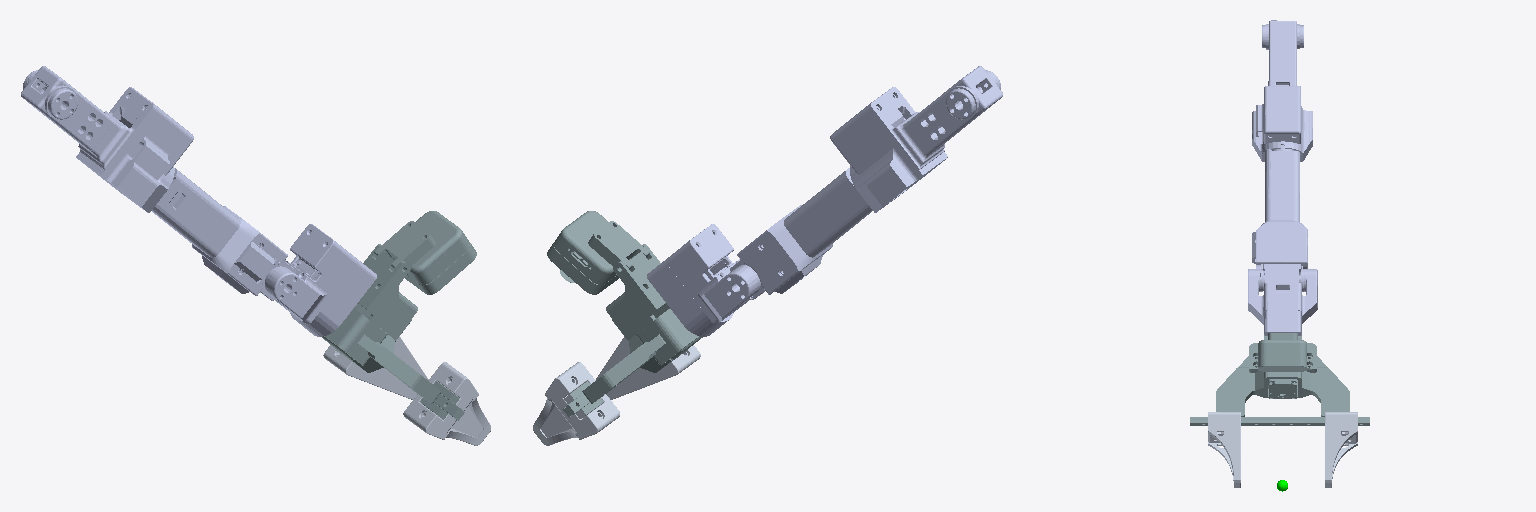
URDF robot description (Alicia_D_v5_6_gripper_100mm):
<?xml version="1.0" encoding="utf-8" ?>
<!-- This URDF was automatically created by SolidWorks to URDF Exporter! Originally created by Stephen Brawner (brawner@gmail.com) 
     Commit Version: 1.6.0-4-g7f85cfe  Build Version: 1.6.7995.38578
     For more information, please see http://wiki.ros.org/sw_urdf_exporter -->
<robot name="Alicia_D_v5_6_gripper_100mm">
    <mujoco>
        <compiler meshdir="../../meshes/Alicia_D_v5_6/gripper_100mm/" discardvisual="false" />
        <contact>
            <exclude body1="base_link" body2="Link1" />
            <exclude body1="Link1" body2="Link2" />
            <exclude body1="Link2" body2="Link3" />
            <exclude body1="Link3" body2="Link4" />
            <exclude body1="Link4" body2="Link5" />
            <exclude body1="Link5" body2="Link6" />
            <exclude body1="Link6" body2="Link7_100mm" />
            <exclude body1="Link7_100mm" body2="Link8_100mm" />
        </contact>
    </mujoco>
    <link name="world" />
    <joint name="world_to_base_joint" type="fixed">
        <parent link="world" />
        <child link="base_link" />
        <origin xyz="0 0 0" rpy="0 0 3.14" />
    </joint>
    <link name="base_link">
        <inertial>
            <origin xyz="0.000826234790037254 0.00797844273246934 0.0457675129432198" rpy="0 0 0" />
            <mass value="0.73396142463988" />
            <inertia ixx="0.00138410344771636" ixy="5.67201110403939E-05" ixz="5.14360164234968E-07" iyy="0.00173617223701436" iyz="-1.48652204589361E-05" izz="0.00274667683203449" />
        </inertial>
        <visual>
            <origin xyz="0 0 0" rpy="0 0 0" />
            <geometry>
                <mesh filename="package://alicia_d_descriptions/meshes/Alicia_D_v5_6/gripper_100mm/base_link.STL" />
            </geometry>
            <material name="">
                <color rgba="0.807843137254902 0.843137254901961 0.905882352941176 1" />
            </material>
        </visual>
        <collision>
            <origin xyz="0 0 0" rpy="0 0 0" />
            <geometry>
                <mesh filename="package://alicia_d_descriptions/meshes/Alicia_D_v5_6/gripper_100mm/base_link.STL" />
            </geometry>
        </collision>
    </link>
    <link name="Link1">
        <inertial>
            <origin xyz="-0.000230595969793356 -1.29044880285874E-05 0.00303135656120136" rpy="0 0 0" />
            <mass value="0.195233452997315" />
            <inertia ixx="0.000258351125070494" ixy="8.79363230470527E-07" ixz="-6.87511809706097E-07" iyy="0.000149307709386745" iyz="-1.07703111237383E-06" izz="0.00033979127403906" />
        </inertial>
        <visual>
            <origin xyz="0 0 0" rpy="0 0 0" />
            <geometry>
                <mesh filename="package://alicia_d_descriptions/meshes/Alicia_D_v5_6/gripper_100mm/Link1.STL" />
            </geometry>
            <material name="">
                <color rgba="0.796078431372549 0.823529411764706 0.937254901960784 1" />
            </material>
        </visual>
        <collision>
            <origin xyz="0 0 0" rpy="0 0 0" />
            <geometry>
                <mesh filename="package://alicia_d_descriptions/meshes/Alicia_D_v5_6/gripper_100mm/Link1.STL" />
            </geometry>
        </collision>
    </link>
    <joint name="Joint1" type="revolute">
        <origin xyz="0 0 0.1295" rpy="0 0 0" />
        <parent link="base_link" />
        <child link="Link1" />
        <axis xyz="0 0 1" />
        <limit lower="-2.16" upper="2.16" effort="5" velocity="12" />
    </joint>
    <link name="Link2">
        <inertial>
            <origin xyz="0.15058869562262 0.000942409990636479 0.000567598737006011" rpy="0 0 0" />
            <mass value="0.207033693061785" />
            <inertia ixx="0.000128135500181764" ixy="1.19125955596776E-07" ixz="1.66696805664369E-06" iyy="0.00020570839060521" iyz="-3.50025103451333E-07" izz="0.000122721347332605" />
        </inertial>
        <visual>
            <origin xyz="0 0 0" rpy="0 0 0" />
            <geometry>
                <mesh filename="package://alicia_d_descriptions/meshes/Alicia_D_v5_6/gripper_100mm/Link2.STL" />
            </geometry>
            <material name="">
                <color rgba="0.807843137254902 0.843137254901961 0.905882352941176 1" />
            </material>
        </visual>
        <collision>
            <origin xyz="0 0 0" rpy="0 0 0" />
            <geometry>
                <mesh filename="package://alicia_d_descriptions/meshes/Alicia_D_v5_6/gripper_100mm/Link2.STL" />
            </geometry>
        </collision>
    </link>
    <joint name="Joint2" type="revolute">
        <origin xyz="0 0 0.0428699999999999" rpy="1.5707963267949 -1.5707963267949 0" />
        <parent link="Link1" />
        <child link="Link2" />
        <axis xyz="0 0 -1" />
        <limit lower="-1.57" upper="1.57" effort="5" velocity="12" />
    </joint>
    <link name="Link3">
        <inertial>
            <origin xyz="-0.00248143778782739 -0.0557863224791789 -0.00026972095893869" rpy="0 0 0" />
            <mass value="0.0845575643881719" />
            <inertia ixx="7.61918231204225E-05" ixy="-2.26498109370293E-06" ixz="-3.82299433438528E-07" iyy="2.87941476377691E-05" iyz="-5.38445154034657E-06" izz="8.04370526946759E-05" />
        </inertial>
        <visual>
            <origin xyz="0 0 0" rpy="0 0 0" />
            <geometry>
                <mesh filename="package://alicia_d_descriptions/meshes/Alicia_D_v5_6/gripper_100mm/Link3.STL" />
            </geometry>
            <material name="">
                <color rgba="0.792156862745098 0.819607843137255 0.933333333333333 1" />
            </material>
        </visual>
        <collision>
            <origin xyz="0 0 0" rpy="0 0 0" />
            <geometry>
                <mesh filename="package://alicia_d_descriptions/meshes/Alicia_D_v5_6/gripper_100mm/Link3.STL" />
            </geometry>
        </collision>
    </link>
    <joint name="Joint3" type="revolute">
        <origin xyz="0.223671302741224 0.0225916129580062 -5.00000000004269E-05" rpy="0 0 -2.35619455367747" />
        <parent link="Link2" />
        <child link="Link3" />
        <axis xyz="0 0 -1" />
        <limit lower="-0.5" upper="2.35619" effort="5" velocity="12" />
    </joint>
    <link name="Link4">
        <inertial>
            <origin xyz="-0.000298365511909815 -0.000601369792335375 -0.0659740414803652" rpy="0 0 0" />
            <mass value="0.0653695983290511" />
            <inertia ixx="7.03004189237379E-05" ixy="9.68417897045909E-09" ixz="-7.50131701712901E-07" iyy="6.87470299000528E-05" iyz="-4.45271864002507E-08" izz="1.68226189332686E-05" />
        </inertial>
        <visual>
            <origin xyz="0 0 0" rpy="0 0 0" />
            <geometry>
                <mesh filename="package://alicia_d_descriptions/meshes/Alicia_D_v5_6/gripper_100mm/Link4.STL" />
            </geometry>
            <material name="">
                <color rgba="0.792156862745098 0.819607843137255 0.933333333333333 1" />
            </material>
        </visual>
        <collision>
            <origin xyz="0 0 0" rpy="0 0 0" />
            <geometry>
                <mesh filename="package://alicia_d_descriptions/meshes/Alicia_D_v5_6/gripper_100mm/Link4.STL" />
            </geometry>
        </collision>
    </link>
    <joint name="Joint4" type="revolute">
        <origin xyz="0.00211000000000205 -0.0990000000000029 -0.000199999999999935" rpy="1.5707963267949 0 -3.14159265358979" />
        <parent link="Link3" />
        <child link="Link4" />
        <axis xyz="0 0 1" />
        <limit lower="-2.7925" upper="2.7925" effort="5" velocity="12" />
    </joint>
    <link name="Link5">
        <inertial>
            <origin xyz="-0.0113684233797897 -0.0308687469846993 0.000870449933407672" rpy="0 0 0" />
            <mass value="0.0507639016939435" />
            <inertia ixx="1.87701017076292E-05" ixy="-2.01098609907295E-06" ixz="5.15226500398009E-08" iyy="2.5102103446601E-05" iyz="-4.22412451729529E-08" izz="1.72571710040514E-05" />
        </inertial>
        <visual>
            <origin xyz="0 0 0" rpy="0 0 0" />
            <geometry>
                <mesh filename="package://alicia_d_descriptions/meshes/Alicia_D_v5_6/gripper_100mm/Link5.STL" />
            </geometry>
            <material name="">
                <color rgba="0.792156862745098 0.819607843137255 0.933333333333333 1" />
            </material>
        </visual>
        <collision>
            <origin xyz="0 0 0" rpy="0 0 0" />
            <geometry>
                <mesh filename="package://alicia_d_descriptions/meshes/Alicia_D_v5_6/gripper_100mm/Link5.STL" />
            </geometry>
        </collision>
    </link>
    <joint name="Joint5" type="revolute">
        <origin xyz="0 -0.000500000000000358 -0.12235" rpy="1.5707963267949 0 3.14159265358979" />
        <parent link="Link4" />
        <child link="Link5" />
        <axis xyz="0 0 -1" />
        <limit lower="-1.57" upper="1.57" effort="5" velocity="12" />
    </joint>
    <link name="Link6">
        <inertial>
            <origin xyz="-0.0284286209063364 -0.000164331776074683 0.0356458378036799" rpy="0 0 0" />
            <mass value="0.123298967748658" />
            <inertia ixx="8.15187871372542E-05" ixy="1.00502626885595E-08" ixz="-3.58286144151255E-06" iyy="3.34532452274713E-05" iyz="2.08982135984139E-08" izz="8.71601554199557E-05" />
        </inertial>
        <visual>
            <origin xyz="0 0 0" rpy="0 0 0" />
            <geometry>
                <mesh filename="package://alicia_d_descriptions/meshes/Alicia_D_v5_6/gripper_100mm/Link6.STL" />
            </geometry>
            <material name="">
                <color rgba="0.592156862745098 0.666666666666667 0.682352941176471 1" />
            </material>
        </visual>
        <collision>
            <origin xyz="0 0 0" rpy="0 0 0" />
            <geometry>
                <mesh filename="package://alicia_d_descriptions/meshes/Alicia_D_v5_6/gripper_100mm/Link6.STL" />
            </geometry>
        </collision>
    </link>
    <joint name="Joint6" type="revolute">
        <origin xyz="-0.00384999999999946 -0.0574999999999999 0.00100000000000069" rpy="1.5707963267949 0 0" />
        <parent link="Link5" />
        <child link="Link6" />
        <axis xyz="0 0 -1" />
        <limit lower="-3.14" upper="3.14" effort="5" velocity="12" />
    </joint>
    <link name="Link7">
        <inertial>
            <origin xyz="-2.97087516809569E-08 -0.0434087591943532 0.0106596716155974" rpy="0 0 0" />
            <mass value="0.0256461121677846" />
            <inertia ixx="6.46830326573709E-06" ixy="2.39543801056837E-11" ixz="4.6372130544053E-12" iyy="5.13428741941763E-06" iyz="1.26432048814164E-06" izz="8.03606347912524E-06" />
        </inertial>
        <visual>
            <origin xyz="0 0 0" rpy="0 0 0" />
            <geometry>
                <mesh filename="package://alicia_d_descriptions/meshes/Alicia_D_v5_6/gripper_100mm/Link7.STL" />
            </geometry>
            <material name="">
                <color rgba="0.807843137254902 0.843137254901961 0.905882352941176 1" />
            </material>
        </visual>
        <collision>
            <origin xyz="0 0 0" rpy="0 0 0" />
            <geometry>
                <mesh filename="package://alicia_d_descriptions/meshes/Alicia_D_v5_6/gripper_100mm/Link7.STL" />
            </geometry>
        </collision>
    </link>
    <joint name="left_finger" type="prismatic">
        <origin xyz="-0.0002 -0.036537 0.13098" rpy="1.5708 0 0" />
        <parent link="Link6" />
        <child link="Link7" />
        <axis xyz="0 0 1" />
        <limit lower="-0.05" upper="0" effort="5" velocity="12" />
        <mimic joint="right_finger" multiplier="-1" offset="0" />
    </joint>
    <link name="Link8">
        <inertial>
            <origin xyz="2.9708752458113E-08 0.0434087591943507 0.0106596716155974" rpy="0 0 0" />
            <mass value="0.0256461121677875" />
            <inertia ixx="6.46830326573823E-06" ixy="2.39543798195983E-11" ixz="-4.63721285127558E-12" iyy="5.13428741941822E-06" iyz="-1.2643204881421E-06" izz="8.03606347912604E-06" />
        </inertial>
        <visual>
            <origin xyz="0 0 0" rpy="0 0 0" />
            <geometry>
                <mesh filename="package://alicia_d_descriptions/meshes/Alicia_D_v5_6/gripper_100mm/Link8.STL" />
            </geometry>
            <material name="">
                <color rgba="0.807843137254902 0.843137254901961 0.905882352941176 1" />
            </material>
        </visual>
        <collision>
            <origin xyz="0 0 0" rpy="0 0 0" />
            <geometry>
                <mesh filename="package://alicia_d_descriptions/meshes/Alicia_D_v5_6/gripper_100mm/Link8.STL" />
            </geometry>
        </collision>
    </link>
    <joint name="right_finger" type="prismatic">
        <origin xyz="-0.0002 0.036518 0.13098" rpy="-1.5708 0 0" />
        <parent link="Link6" />
        <child link="Link8" />
        <axis xyz="0 0 -1" />
        <limit lower="0" upper="0.05" effort="5" velocity="12" />
    </joint>
    <link name="tool0">
        <visual>
            <origin xyz="0 0 0" rpy="0 0 0" />
            <geometry>
                <sphere radius="0.005" />
                <!-- 定义一个半径为0.02米的小球体 -->
            </geometry>
            <material name="green_virtual_sphere_material">
                <!-- 可以给材质起个名字 -->
                <color rgba="0 1 0 1" />
                <!-- 绿色 (R G B A)，A为1表示不透明 -->
            </material>
        </visual>
    </link>
    <joint name="Grasp2tool" type="fixed">
        <origin xyz="-0.0002 -0.0003 0.13118" rpy="0 0 0" />
        <parent link="Link6" />
        <child link="tool0" />
        <axis xyz="0 0 0" />
    </joint>
    <transmission name="trans_Joint1">
        <type>transmission_interface/SimpleTransmission</type>
        <joint name="Joint1">
            <hardwareInterface>hardware_interface/EffortJointInterface</hardwareInterface>
        </joint>
        <actuator name="Joint1_motor">
            <hardwareInterface>hardware_interface/EffortJointInterface</hardwareInterface>
            <mechanicalReduction>1</mechanicalReduction>
        </actuator>
    </transmission>
    <transmission name="trans_Joint2">
        <type>transmission_interface/SimpleTransmission</type>
        <joint name="Joint2">
            <hardwareInterface>hardware_interface/EffortJointInterface</hardwareInterface>
        </joint>
        <actuator name="Joint2_motor">
            <hardwareInterface>hardware_interface/EffortJointInterface</hardwareInterface>
            <mechanicalReduction>1</mechanicalReduction>
        </actuator>
    </transmission>
    <transmission name="trans_Joint3">
        <type>transmission_interface/SimpleTransmission</type>
        <joint name="Joint3">
            <hardwareInterface>hardware_interface/EffortJointInterface</hardwareInterface>
        </joint>
        <actuator name="Joint3_motor">
            <hardwareInterface>hardware_interface/EffortJointInterface</hardwareInterface>
            <mechanicalReduction>1</mechanicalReduction>
        </actuator>
    </transmission>
    <transmission name="trans_Joint4">
        <type>transmission_interface/SimpleTransmission</type>
        <joint name="Joint4">
            <hardwareInterface>hardware_interface/EffortJointInterface</hardwareInterface>
        </joint>
        <actuator name="Joint4_motor">
            <hardwareInterface>hardware_interface/EffortJointInterface</hardwareInterface>
            <mechanicalReduction>1</mechanicalReduction>
        </actuator>
    </transmission>
    <transmission name="trans_Joint5">
        <type>transmission_interface/SimpleTransmission</type>
        <joint name="Joint5">
            <hardwareInterface>hardware_interface/EffortJointInterface</hardwareInterface>
        </joint>
        <actuator name="Joint5_motor">
            <hardwareInterface>hardware_interface/EffortJointInterface</hardwareInterface>
            <mechanicalReduction>1</mechanicalReduction>
        </actuator>
    </transmission>
    <transmission name="trans_Joint6">
        <type>transmission_interface/SimpleTransmission</type>
        <joint name="Joint6">
            <hardwareInterface>hardware_interface/EffortJointInterface</hardwareInterface>
        </joint>
        <actuator name="Joint6_motor">
            <hardwareInterface>hardware_interface/EffortJointInterface</hardwareInterface>
            <mechanicalReduction>1</mechanicalReduction>
        </actuator>
    </transmission>
    <transmission name="trans_left_finger">
        <type>transmission_interface/SimpleTransmission</type>
        <joint name="left_finger">
            <hardwareInterface>hardware_interface/EffortJointInterface</hardwareInterface>
        </joint>
        <actuator name="left_finger_motor">
            <hardwareInterface>hardware_interface/EffortJointInterface</hardwareInterface>
            <mechanicalReduction>1</mechanicalReduction>
        </actuator>
    </transmission>
    <transmission name="trans_right_finger">
        <type>transmission_interface/SimpleTransmission</type>
        <joint name="right_finger">
            <hardwareInterface>hardware_interface/EffortJointInterface</hardwareInterface>
        </joint>
        <actuator name="right_finger_motor">
            <hardwareInterface>hardware_interface/EffortJointInterface</hardwareInterface>
            <mechanicalReduction>1</mechanicalReduction>
        </actuator>
    </transmission>
    <gazebo>
        <plugin name="gazebo_ros_control" filename="libgazebo_ros_control.so">
            <robotNamespace>/</robotNamespace>
        </plugin>
    </gazebo>
</robot>

--- Facts derived from the render (not from the file) ---
3 views of the same robot in one strip: view 1: azimuth 30°, elevation 25°; view 2: azimuth 150°, elevation 25°; view 3: azimuth 270°, elevation 25° (orthographic).
Model Alicia_D_v5_6_gripper_100mm with 11 links and 10 joints (6 revolute, 2 prismatic, 2 fixed), rooted at world, posed all joints at 0.
Visible links, largest first — view 1: Link6, Link3, Link4, Link5, Link7, Link8; view 2: Link6, Link3, Link4, Link5, Link8, Link7; view 3: Link6, Link4, Link3, Link5, Link7, Link8.
Boxes of the visible links, left/top/right/bottom form: Link6: left=322, top=211, right=476, bottom=420; Link3: left=21, top=66, right=193, bottom=212; Link4: left=152, top=168, right=295, bottom=300; Link5: left=266, top=224, right=376, bottom=336; Link7: left=403, top=362, right=490, bottom=445; Link8: left=323, top=336, right=428, bottom=399; Link6: left=547, top=211, right=702, bottom=417; Link3: left=830, top=66, right=1002, bottom=212; Link4: left=730, top=168, right=872, bottom=299; Link5: left=647, top=224, right=758, bottom=336; Link8: left=533, top=362, right=619, bottom=445; Link7: left=596, top=336, right=700, bottom=399; Link6: left=1190, top=333, right=1369, bottom=425; Link4: left=1252, top=145, right=1307, bottom=291; Link3: left=1252, top=20, right=1312, bottom=161; Link5: left=1248, top=269, right=1317, bottom=335; Link7: left=1208, top=412, right=1240, bottom=487; Link8: left=1325, top=412, right=1357, bottom=487.
Size in the robot's own frame: 0.3152 by 0.155 by 0.3092 metres.
6 mesh visuals loaded from 9 distinct referenced files (6 binary STL); not drawn: 3 (reference not matched to a file when rendering).
